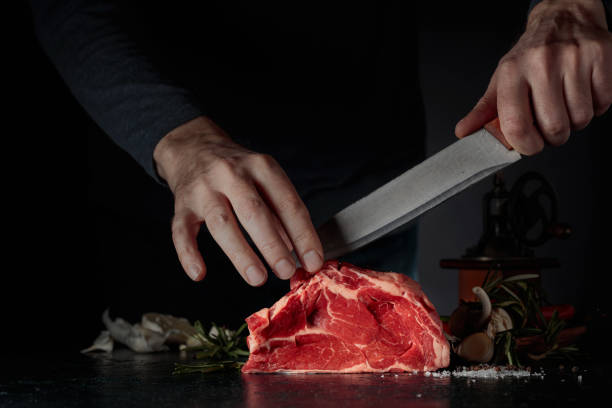knife: (277, 113, 525, 272)
